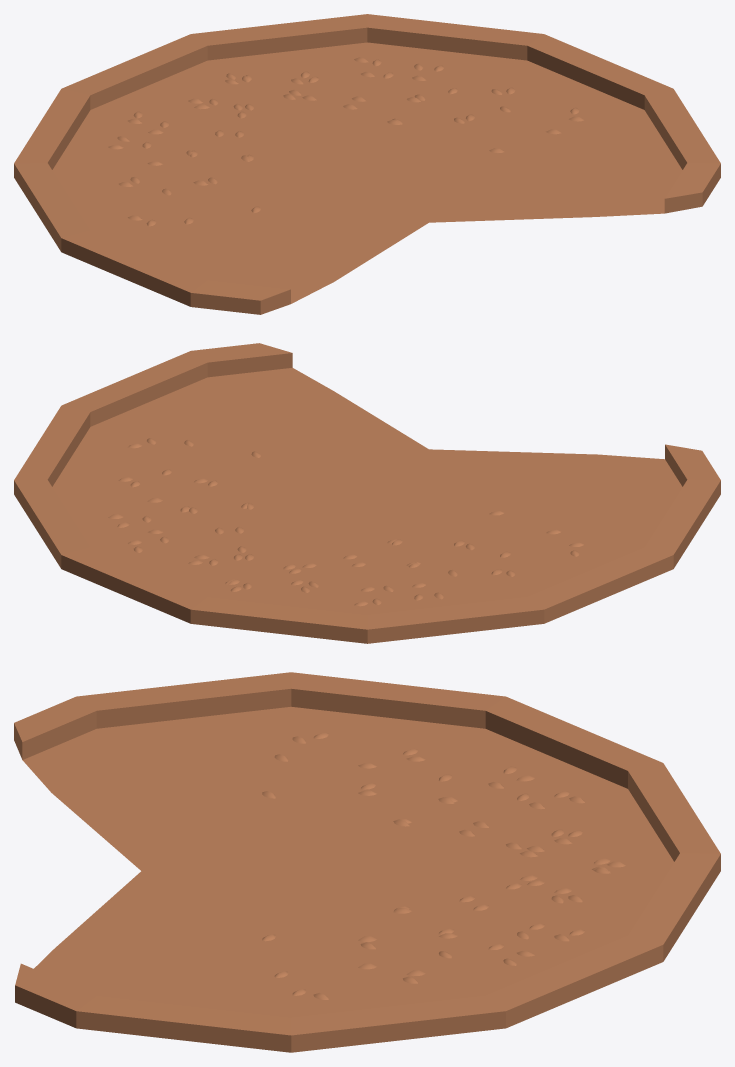
The model's file is puzzle1_Full.fbx.
The picture shows the model from 3 angles, top to bottom: view 1: azimuth 30°, elevation 25°; view 2: azimuth 150°, elevation 25°; view 3: azimuth 270°, elevation 25°; orthographic projection. The views are drawn at different scales.
Parts seen in each view (by area): view 1: bckgnd1; view 2: bckgnd1; view 3: bckgnd1.
Boxes of the visible parts, x1=… form: bckgnd1: x1=14, y1=14, x2=720, y2=314; bckgnd1: x1=14, y1=343, x2=720, y2=643; bckgnd1: x1=14, y1=672, x2=720, y2=1052.
Bounding box in the file's own units: 19.4 × 0.4478 × 15.96.
